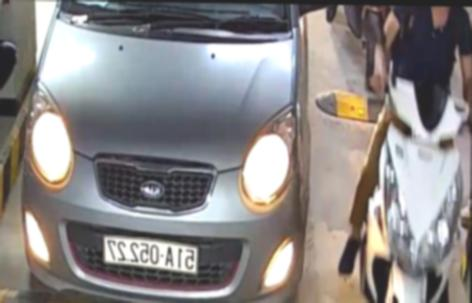License_Plate: (99, 233, 200, 275)
